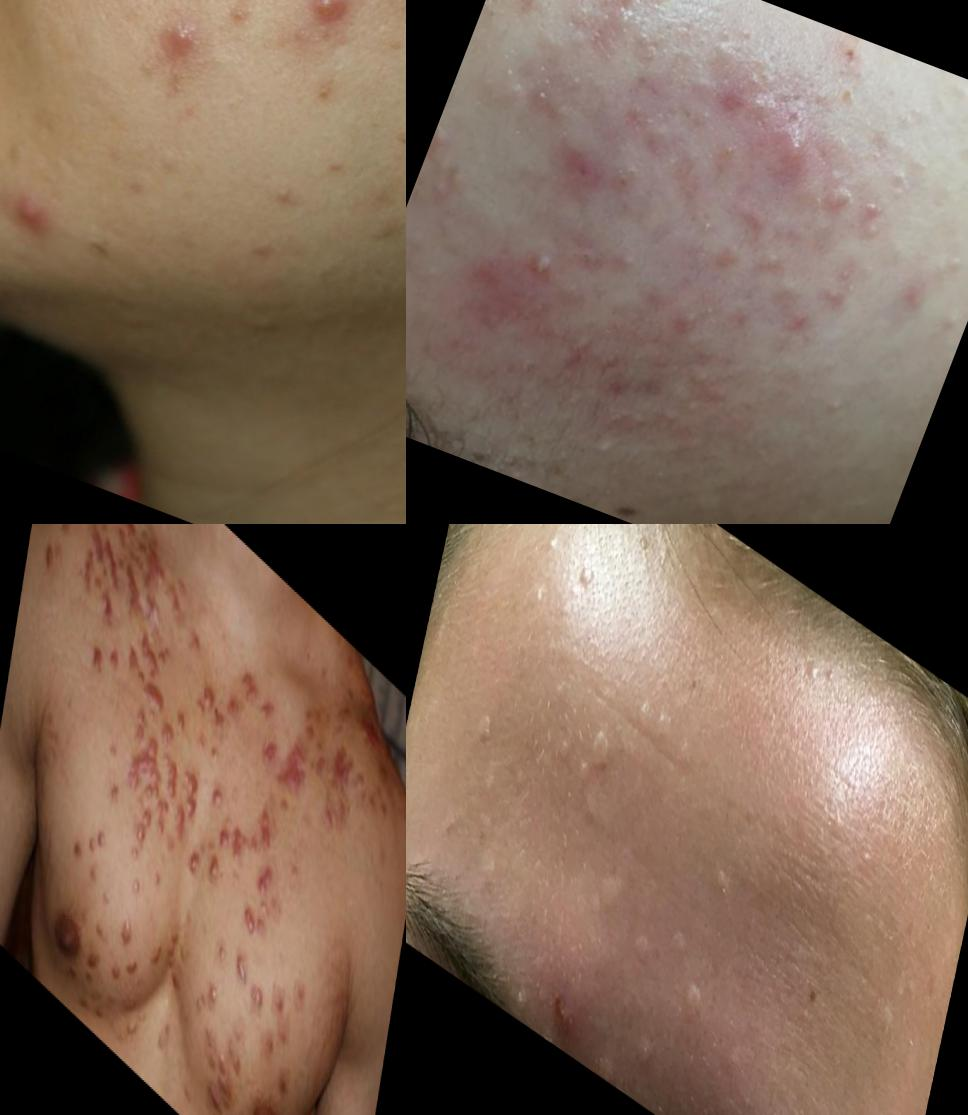blackhead: (563, 236, 606, 283)
flat_wart: (623, 673, 702, 784), (572, 702, 618, 797), (565, 545, 609, 624), (667, 962, 704, 1044), (464, 676, 504, 748), (618, 1015, 662, 1080), (618, 918, 661, 983), (703, 848, 740, 917)
keloid: (270, 677, 361, 866), (119, 699, 184, 837), (135, 531, 193, 631), (169, 693, 231, 784), (229, 781, 277, 893), (80, 525, 125, 633), (198, 783, 237, 898), (84, 615, 127, 702), (237, 659, 280, 739), (154, 911, 193, 998), (111, 899, 149, 988), (237, 870, 275, 954), (173, 747, 203, 852), (232, 947, 268, 1018), (193, 667, 228, 740), (137, 615, 172, 681), (201, 1055, 239, 1115), (85, 525, 140, 558), (258, 726, 284, 789), (141, 669, 170, 721), (41, 526, 64, 583), (203, 970, 225, 1020), (87, 818, 109, 865), (213, 925, 231, 972)
papular: (1, 156, 79, 267), (124, 1, 214, 94), (747, 110, 828, 207), (535, 963, 587, 1057), (815, 246, 880, 315), (549, 139, 610, 201), (744, 241, 796, 286), (889, 272, 937, 318), (778, 295, 827, 339)
purulent: (289, 1, 358, 61), (508, 230, 561, 286)
sebo-crystan-conglo: (817, 168, 859, 218)
whitehead: (804, 58, 881, 126), (423, 161, 480, 219), (846, 187, 897, 249), (622, 23, 673, 74), (547, 370, 593, 424), (882, 160, 927, 211), (684, 206, 732, 251), (583, 426, 627, 471), (929, 243, 968, 293), (685, 67, 726, 112), (946, 119, 968, 185)
